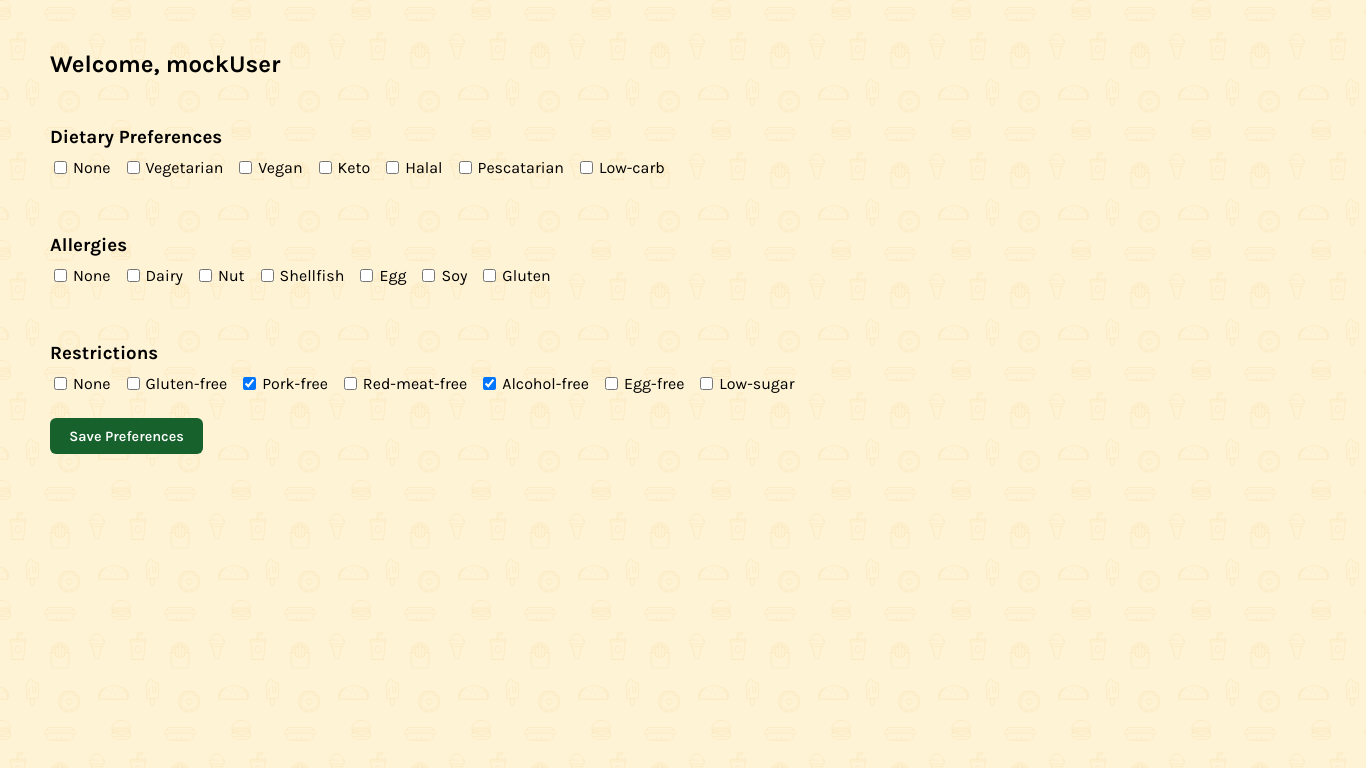
Test: MainPage › selecting "None" unchecks all other restriction options
Expected: the heading "Welcome, mockUser" is shown, [50,50,280,78]
Expected: the checkbox labelled "Pork-free" is checked, [243,377,256,390]
Click the checkbox labelled "None" in the row of "Gluten-free". click: (60, 383)
box: [54,377,67,390]
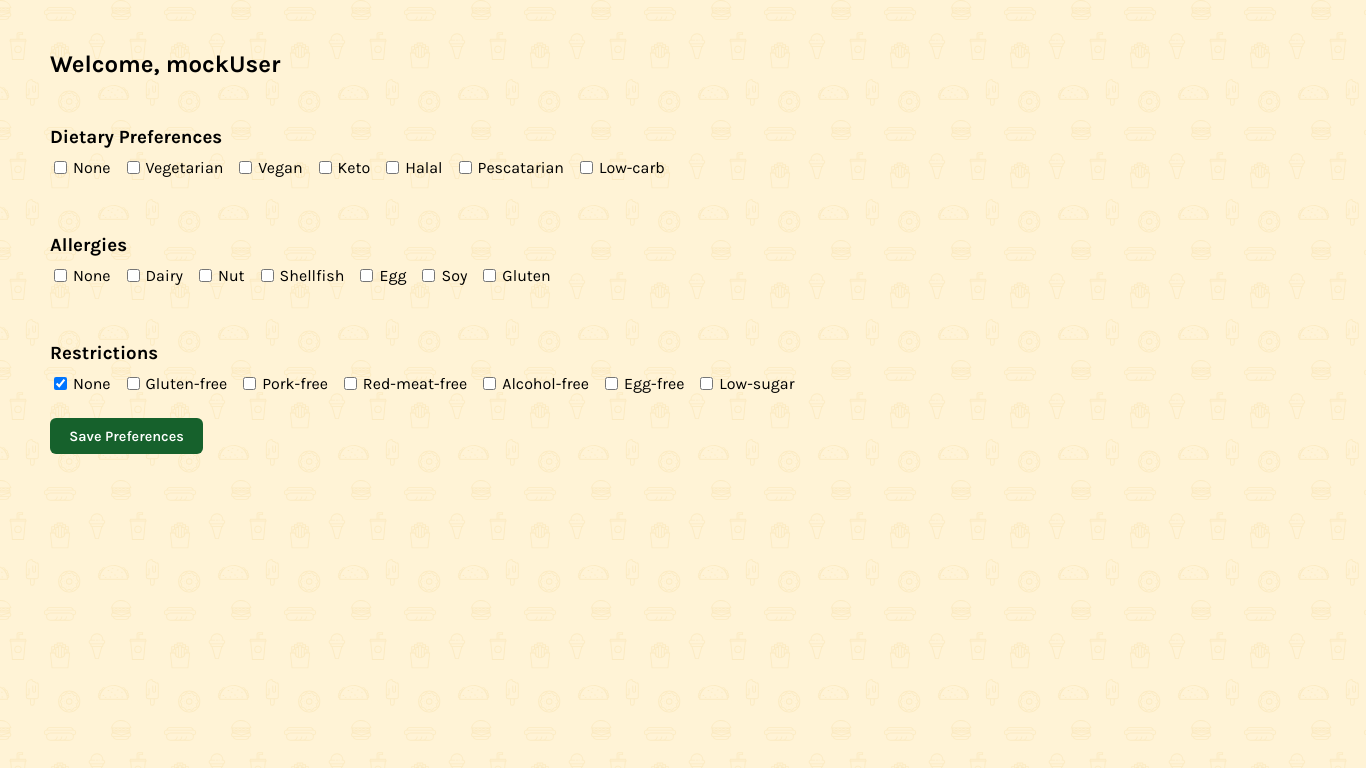
Now the checkbox labelled "None" in the row of "Gluten-free" is checked, box [54,377,67,390]
Now the checkbox labelled "Pork-free" is not checked, box [243,377,256,390]
Now the checkbox labelled "Alcohol-free" is not checked, box [483,377,496,390]
